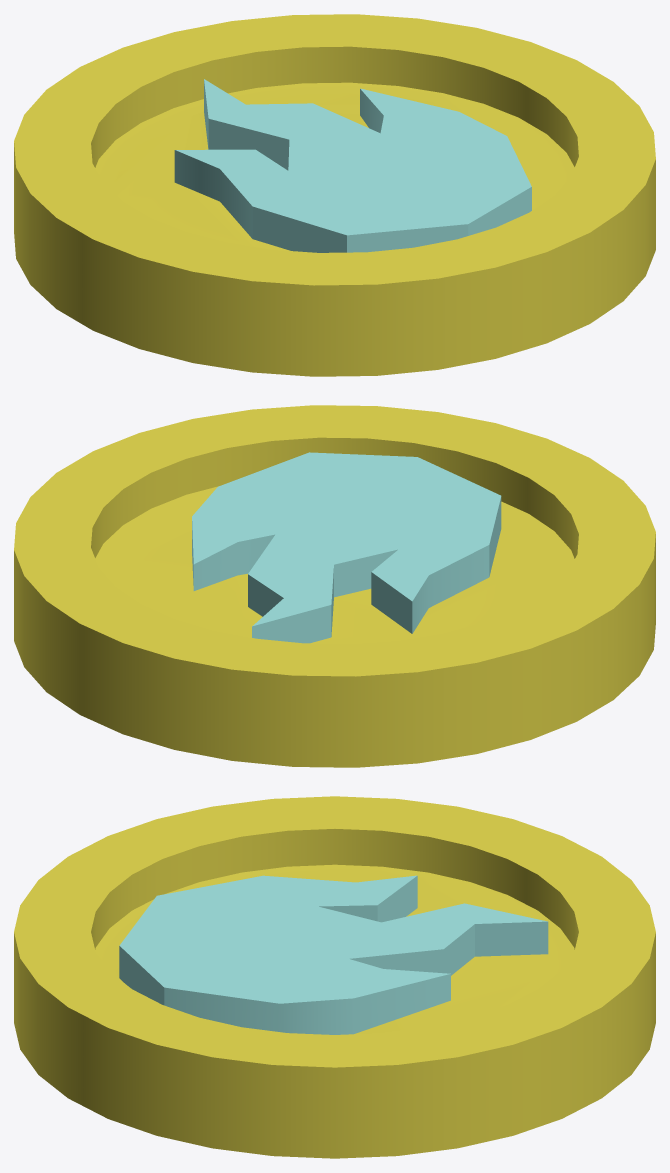
Rendered from coin.fbx.
3 renders of one model, top to bottom at view 1: azimuth 30°, elevation 25°; view 2: azimuth 150°, elevation 25°; view 3: azimuth 270°, elevation 25°, orthographic.
Visible parts, largest first — view 1: Circle; view 2: Circle; view 3: Circle.
Boxes of the visible parts, x1=… form: Circle: x1=14, y1=14, x2=655, y2=376; Circle: x1=14, y1=405, x2=655, y2=767; Circle: x1=14, y1=796, x2=655, y2=1158.
Bounding box in the file's own units: 200 × 31.32 × 200.
